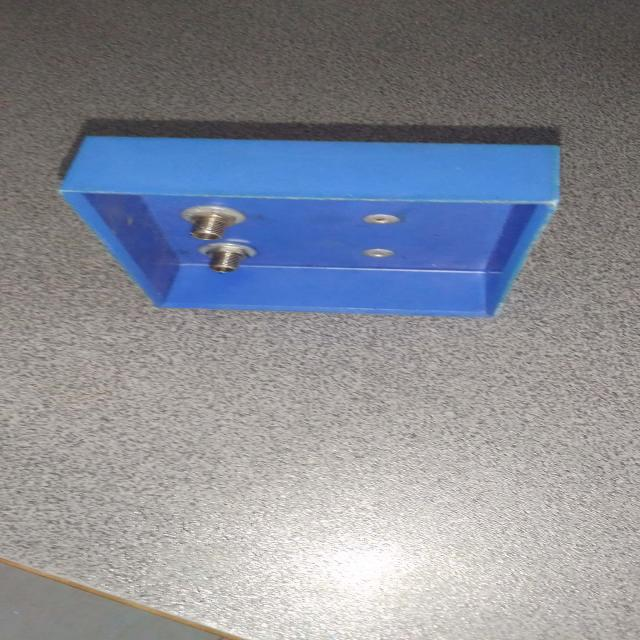L Switch: (28, 131, 584, 326)
